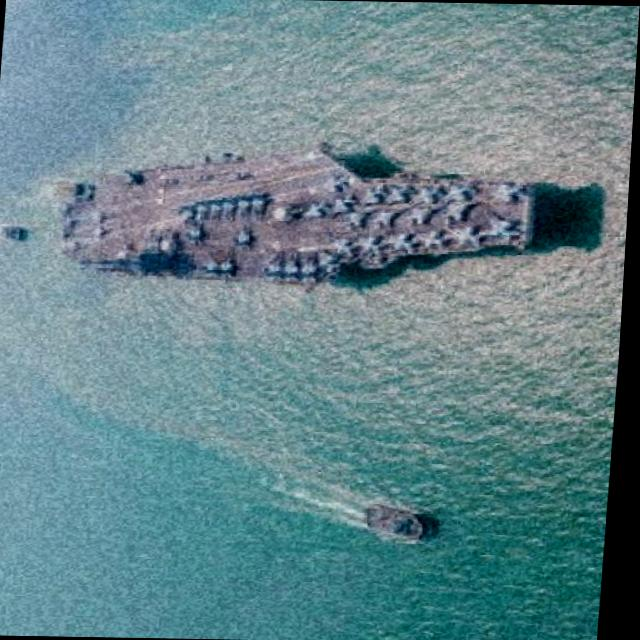ship2: (59, 147, 535, 288)
